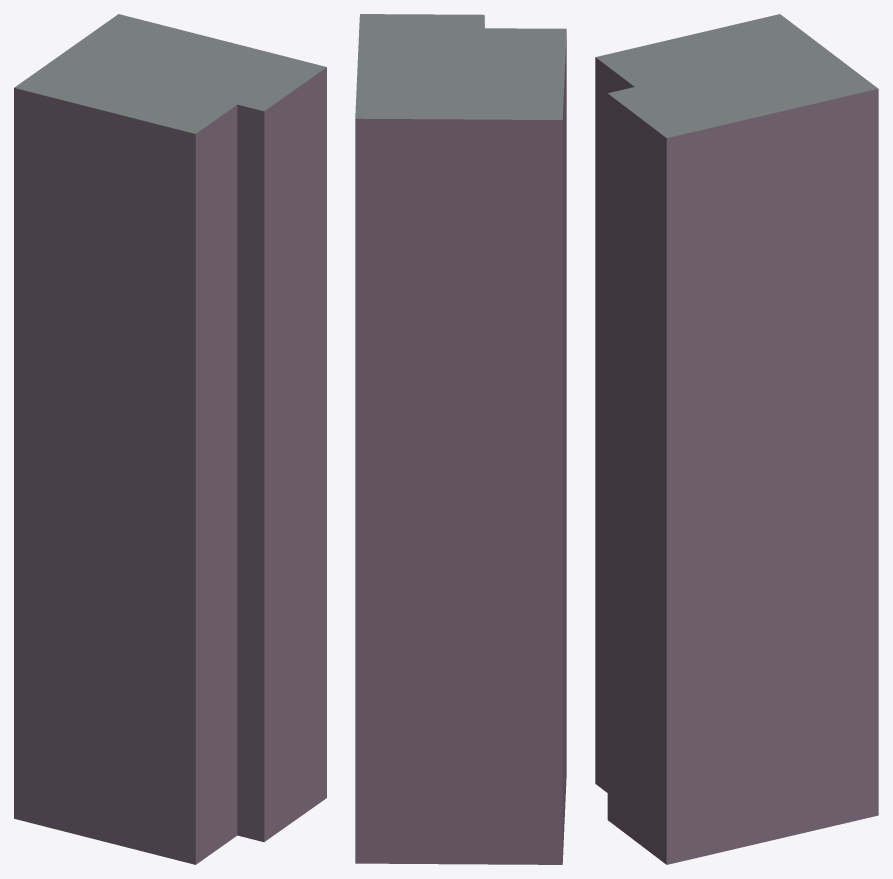
Rendered from nyc-1090630-0.glb.
The picture shows the model from 3 angles, left to right: view 1: azimuth 30°, elevation 25°; view 2: azimuth 150°, elevation 25°; view 3: azimuth 270°, elevation 25°; orthographic projection. The views are drawn at different scales.
Parts seen in each view (by area): view 1: nyc-1090630-0; view 2: nyc-1090630-0; view 3: nyc-1090630-0.
Part boxes in pixels (x1,y1,x2,y2): nyc-1090630-0: (14,14,326,864); nyc-1090630-0: (355,14,566,864); nyc-1090630-0: (595,14,878,864).
Size of the model in its own units: 26.81 by 73.15 by 25.82.
